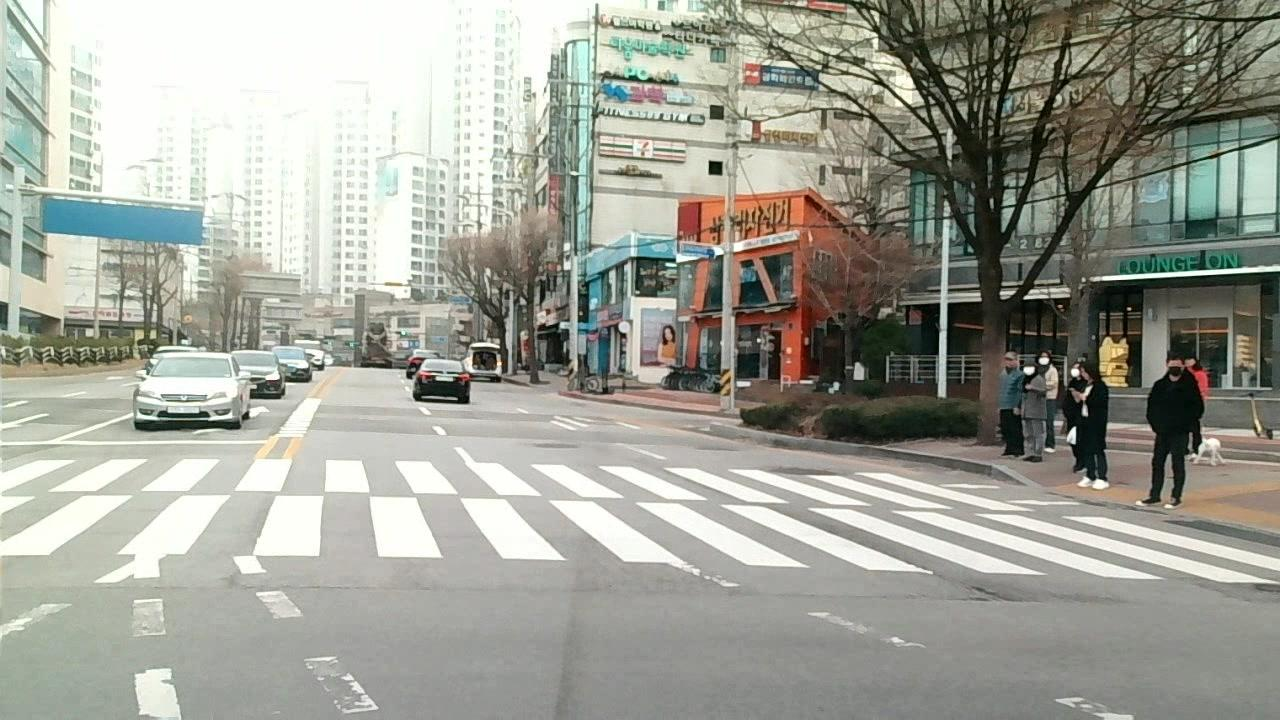banner: (911, 553, 1011, 608), (240, 580, 538, 596)
